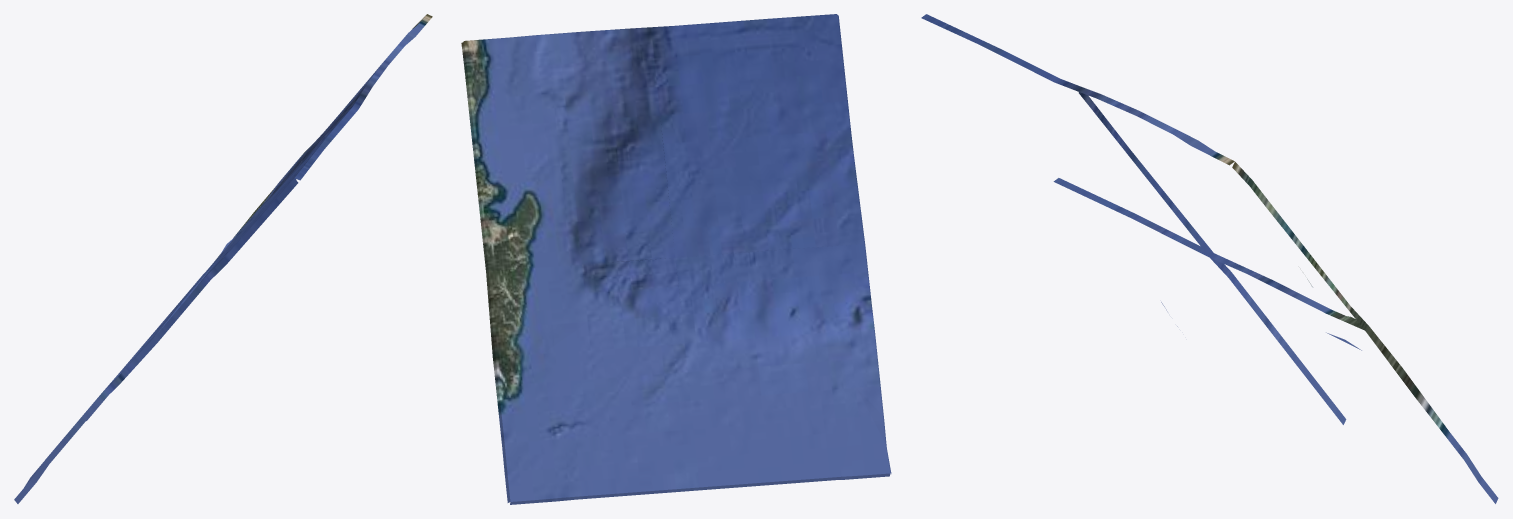
3 views of the same model, side by side, from view 1: azimuth 30°, elevation 25°; view 2: azimuth 150°, elevation 25°; view 3: azimuth 270°, elevation 25° (orthographic). The views are drawn at different scales.
Size of the model in its own units: 158639 by 129121 by 155135.
1 material, 1 textured.
